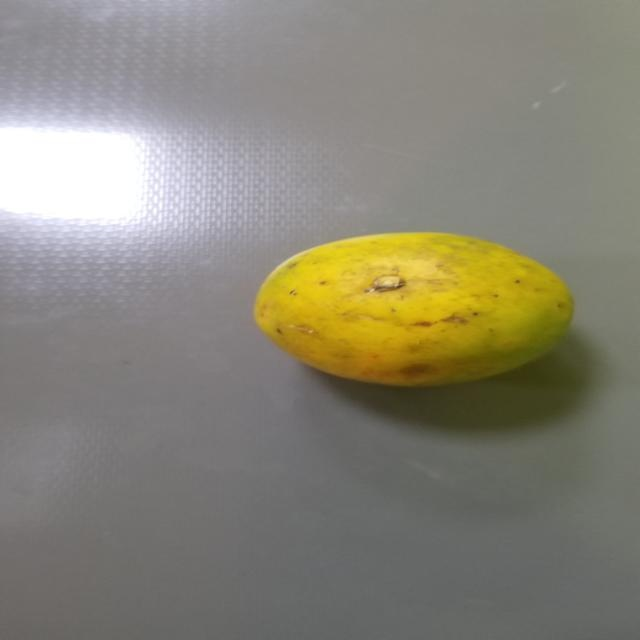agrume: (232, 229, 591, 399)
